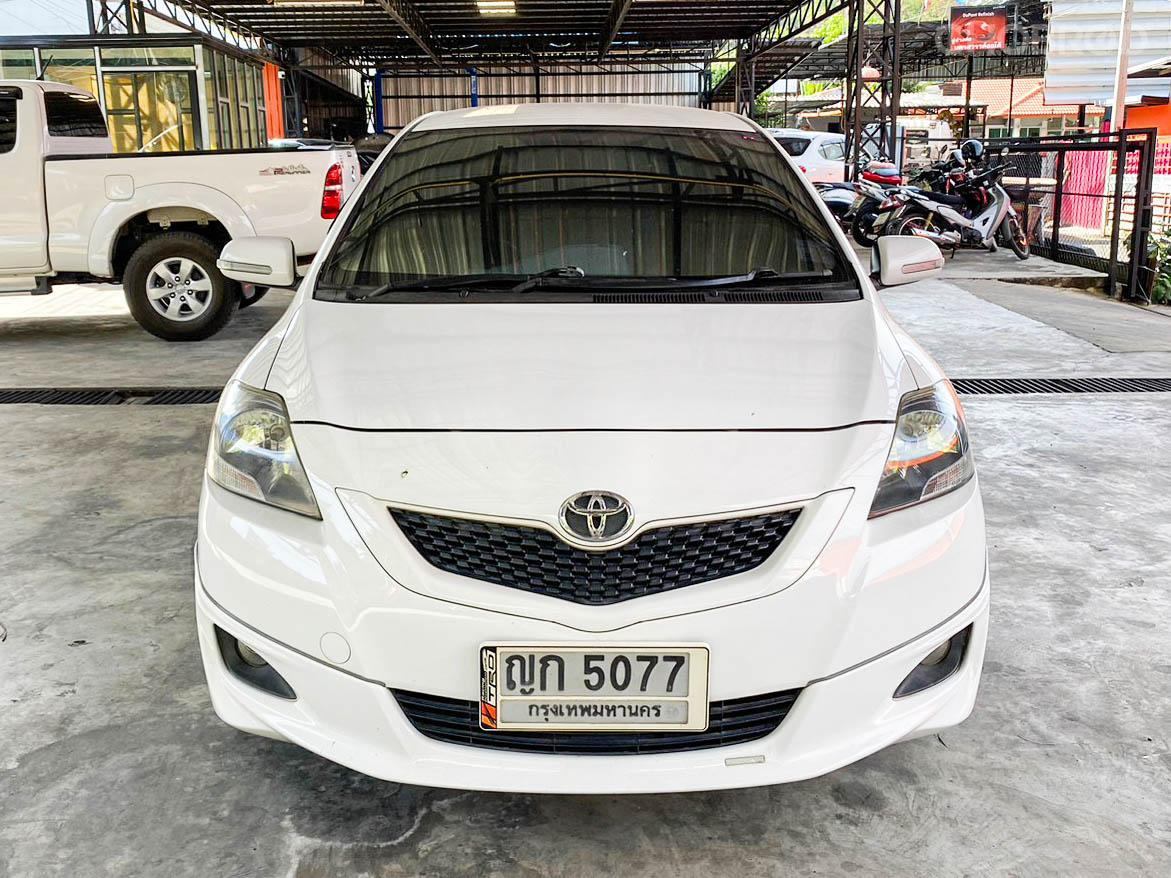license-plate: (473, 628, 714, 739)
